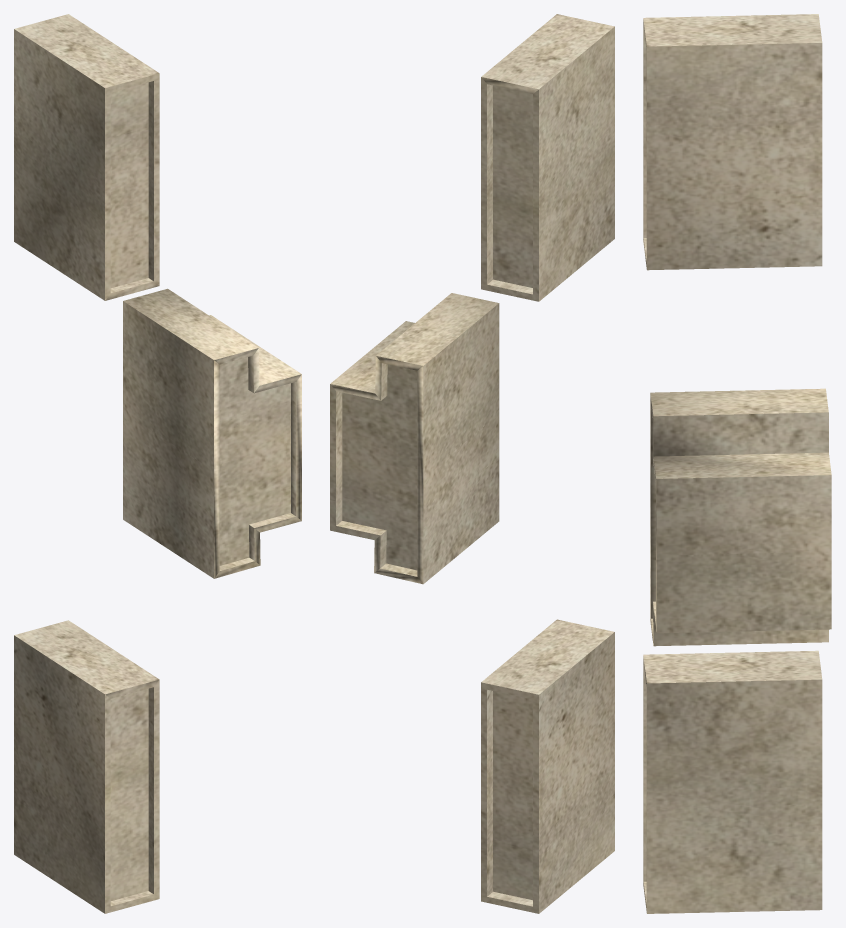
The model's file is concrete_28.fbx.
The picture shows the model from 3 angles, left to right: view 1: azimuth 30°, elevation 25°; view 2: azimuth 150°, elevation 25°; view 3: azimuth 270°, elevation 25°; orthographic projection. The views are drawn at different scales.
Parts seen in each view (by area): view 1: concrete_28; view 2: concrete_28; view 3: concrete_28.
Boxes of the visible parts, x1=… form: concrete_28: x1=14, y1=14, x2=301, y2=913; concrete_28: x1=330, y1=14, x2=614, y2=913; concrete_28: x1=643, y1=14, x2=831, y2=913.
Bounding box in the file's own units: 72.69 × 272 × 53.6.
